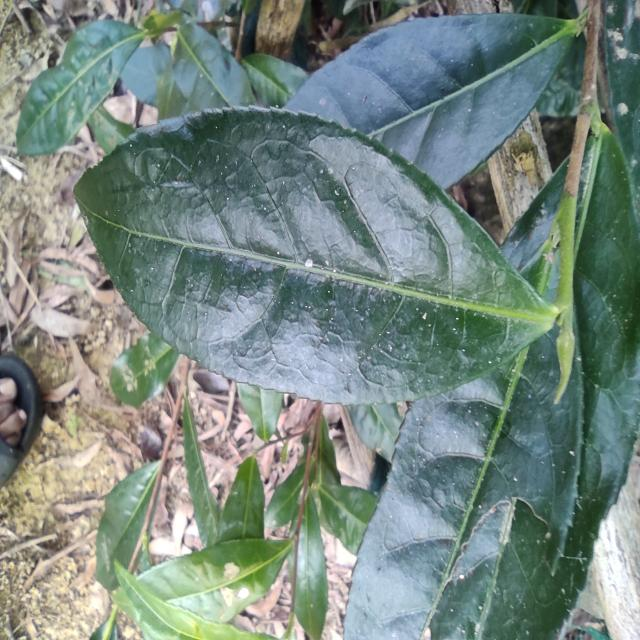Category D 7+ days, Not for Tea: (60, 108, 554, 412)
